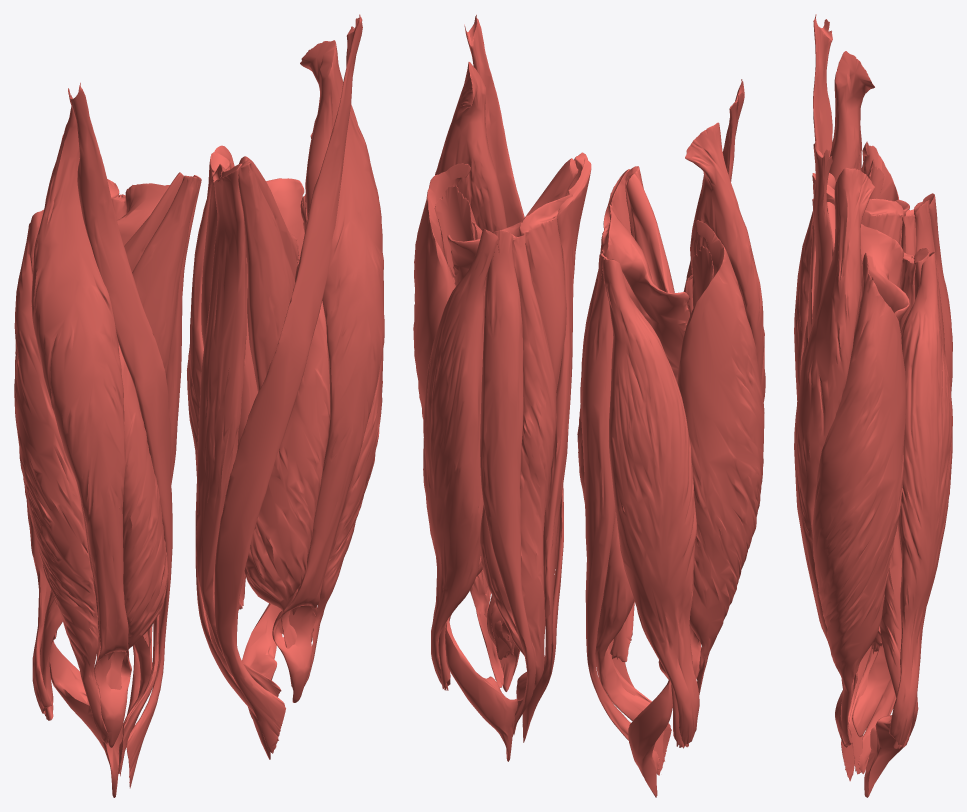
File: supplement-knee-muscle.glb
3 views of the same model, side by side, from view 1: azimuth 30°, elevation 25°; view 2: azimuth 150°, elevation 25°; view 3: azimuth 270°, elevation 25° (orthographic). The views are drawn at different scales.
Visible parts, largest first — view 1: knee:quadriceps:isa:FJ1433, knee:quadriceps:isa:FJ1433M, knee:sartorius:isa:FJ1434M, knee:quadriceps:isa:FJ1442, knee:gracilis:isa:FJ1421M, knee:sartorius:isa:FJ1434, knee:quadriceps:isa:FJ1443M, knee:quadriceps:isa:FJ1443, knee:adductor-longus:isa:FJ1402M, knee:adductor-longus:isa:FJ1402, knee:adductor-magnus:isa:FJ1403M, knee:quadriceps:isa:FJ1442M (+12 smaller); view 2: knee:biceps-femoris:isa:FJ1395, knee:quadriceps:isa:FJ1442, knee:biceps-femoris:isa:FJ1395M, knee:semitendinosus:isa:FJ1436M, knee:semimembranosus:isa:FJ1435M, knee:semitendinosus:isa:FJ1436, knee:quadriceps:isa:FJ1442M, knee:quadriceps:isa:FJ1433, knee:gracilis:isa:FJ1421M, knee:quadriceps:isa:FJ1433M, knee:adductor-magnus:isa:FJ1403M, knee:adductor-magnus:isa:FJ1403 (+10 smaller); view 3: knee:quadriceps:isa:FJ1442M, knee:biceps-femoris:isa:FJ1395M, knee:quadriceps:isa:FJ1433M, knee:quadriceps:isa:FJ1433, knee:sartorius:isa:FJ1434M, knee:adductor-magnus:isa:FJ1403M, knee:sartorius:isa:FJ1434, knee:biceps-femoris:isa:FJ1444M, knee:semimembranosus:isa:FJ1435M, knee:popliteus:isa:FJ1430M, knee:biceps-femoris:isa:FJ1395, knee:semitendinosus:isa:FJ1436M (+6 smaller).
Part boxes in pixels (x1,y1,x2,y2): knee:quadriceps:isa:FJ1433: (31,106,131,747); knee:quadriceps:isa:FJ1433M: (272,40,384,702); knee:sartorius:isa:FJ1434M: (214,14,362,753); knee:quadriceps:isa:FJ1442: (14,209,108,744); knee:gracilis:isa:FJ1421M: (196,163,281,696); knee:sartorius:isa:FJ1434: (68,82,172,788); knee:quadriceps:isa:FJ1443M: (244,194,330,648); knee:quadriceps:isa:FJ1443: (106,343,168,689); knee:adductor-longus:isa:FJ1402M: (238,160,295,392); knee:adductor-longus:isa:FJ1402: (132,175,198,374); knee:adductor-magnus:isa:FJ1403M: (201,164,304,610); knee:quadriceps:isa:FJ1442M: (304,133,383,685); knee:biceps-femoris:isa:FJ1395: (602,259,699,748); knee:quadriceps:isa:FJ1442: (677,220,764,694); knee:biceps-femoris:isa:FJ1395M: (423,228,498,690); knee:semitendinosus:isa:FJ1436M: (480,230,535,736); knee:semimembranosus:isa:FJ1435M: (479,234,556,700); knee:semitendinosus:isa:FJ1436: (581,254,659,771); knee:quadriceps:isa:FJ1442M: (413,163,503,687); knee:quadriceps:isa:FJ1433: (658,122,765,679); knee:gracilis:isa:FJ1421M: (514,158,591,734); knee:quadriceps:isa:FJ1433M: (435,62,519,691); knee:adductor-magnus:isa:FJ1403M: (447,194,572,391); knee:adductor-magnus:isa:FJ1403: (600,203,689,661); knee:quadriceps:isa:FJ1442M: (812,252,906,745); knee:biceps-femoris:isa:FJ1395M: (889,252,952,748); knee:quadriceps:isa:FJ1433M: (794,168,875,747); knee:quadriceps:isa:FJ1433: (794,51,874,400); knee:sartorius:isa:FJ1434M: (811,139,871,781); knee:adductor-magnus:isa:FJ1403M: (860,224,909,654); knee:sartorius:isa:FJ1434: (807,14,843,688); knee:biceps-femoris:isa:FJ1444M: (880,523,912,748); knee:semimembranosus:isa:FJ1435M: (852,252,915,736); knee:popliteus:isa:FJ1430M: (864,696,918,797); knee:biceps-femoris:isa:FJ1395: (922,193,952,394); knee:semitendinosus:isa:FJ1436M: (858,248,929,773).
Size of the model in its own units: 0.3193 by 0.6399 by 0.1342.
